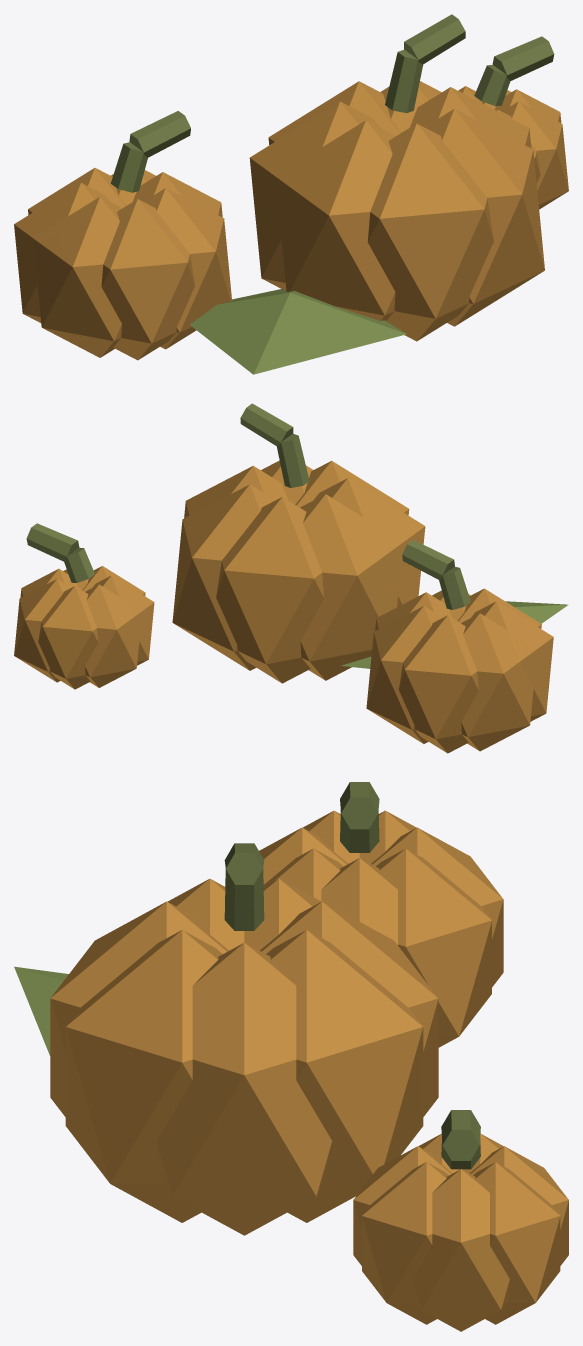
Rendered from map-exclusive-v3__farm_05.glb.
3 renders of one model, top to bottom at view 1: azimuth 30°, elevation 25°; view 2: azimuth 150°, elevation 25°; view 3: azimuth 270°, elevation 25°, orthographic. The views are drawn at different scales.
Visible parts, largest first — view 1: farm_05; view 2: farm_05; view 3: farm_05.
Boxes of the visible parts, x1,y1,x2,y2 form: farm_05: (14, 14, 568, 374); farm_05: (14, 403, 568, 753); farm_05: (14, 782, 568, 1331).
Bounding box in the file's own units: 1.91 × 0.9242 × 1.2.
